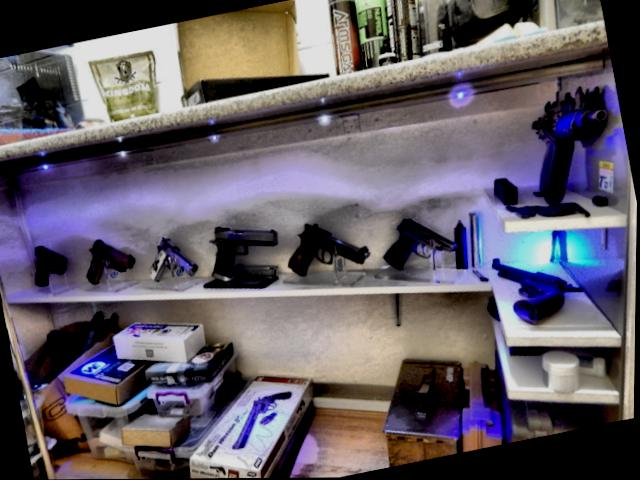pistol: (486, 243, 588, 351), (200, 210, 289, 307), (377, 203, 458, 288), (286, 211, 369, 282), (134, 233, 202, 293), (82, 230, 137, 293), (21, 230, 72, 295)
